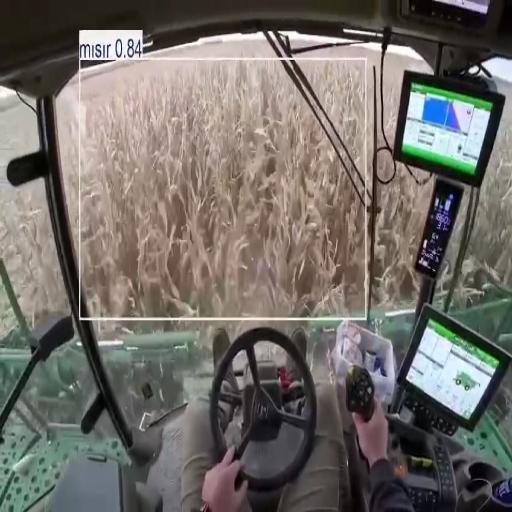misir: (78, 62, 364, 316), (302, 62, 365, 162)
